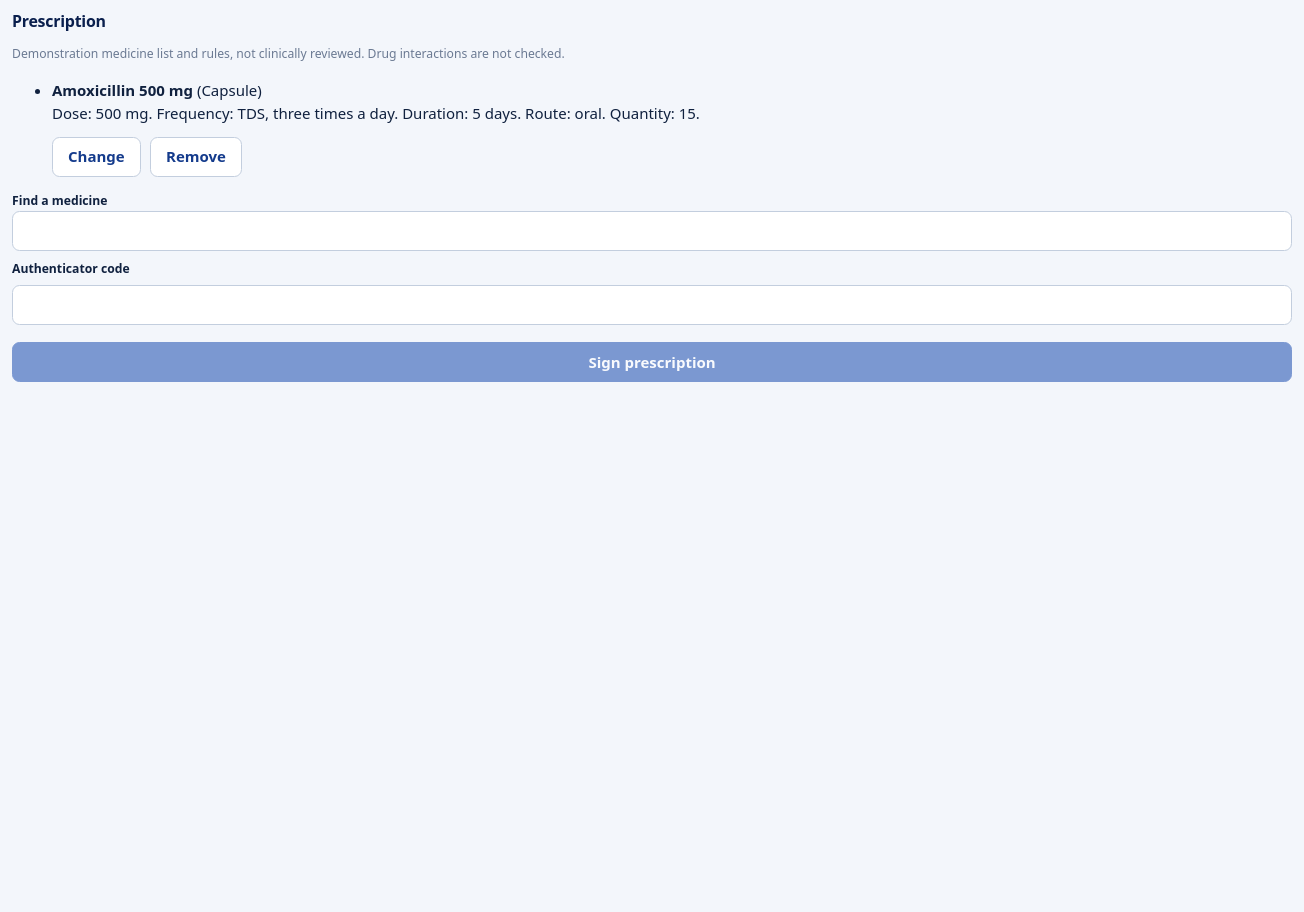
Test: PrescriptionPanel › sends the revision it read when changing a line
Click the button with aria-label "Change Amoxicillin": (96, 157) x1=52 y1=137 x2=141 y2=177
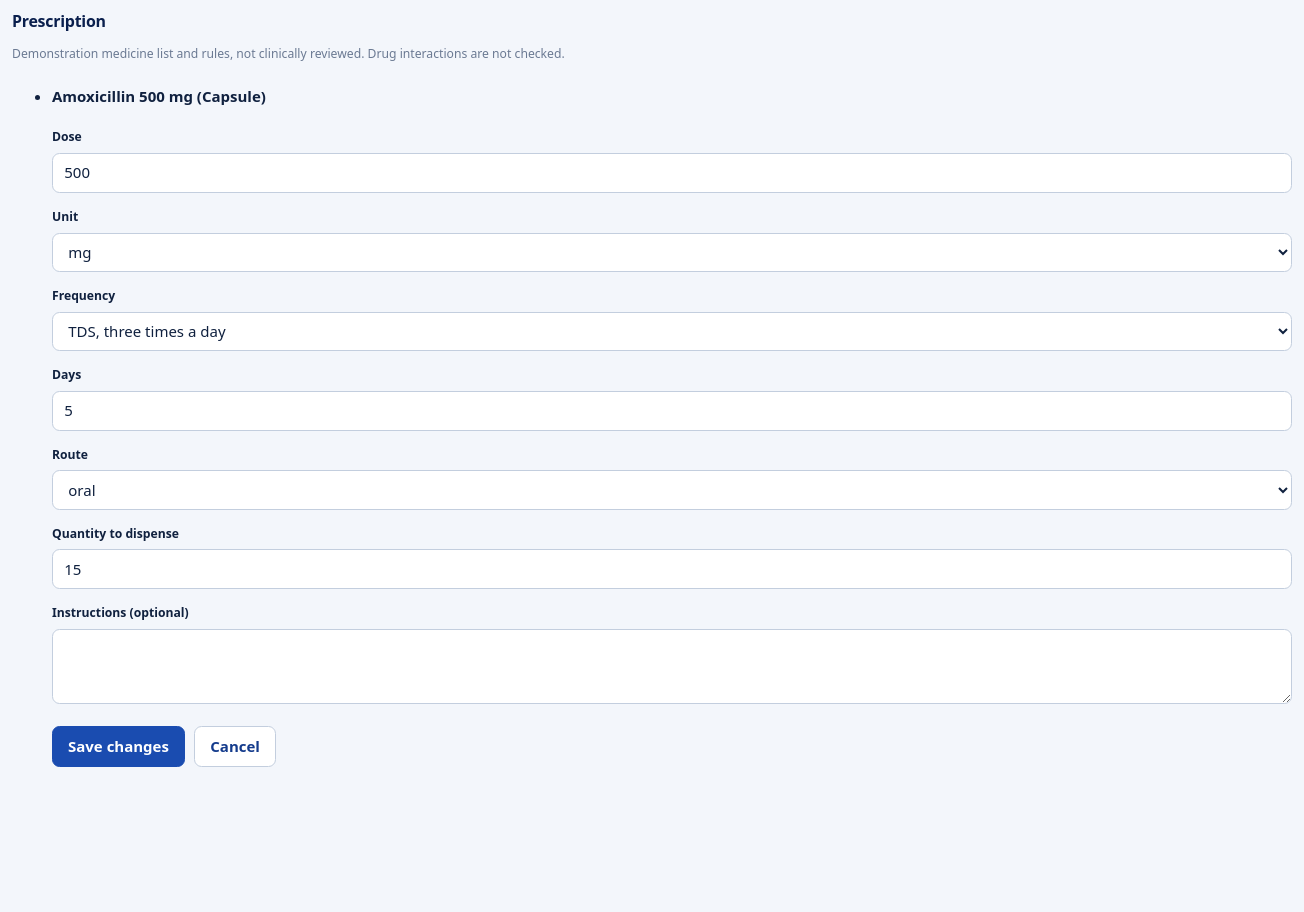
Replace the text in the field labelled "Quantity to dispense" with "21": (672, 569) x1=52 y1=549 x2=1292 y2=590
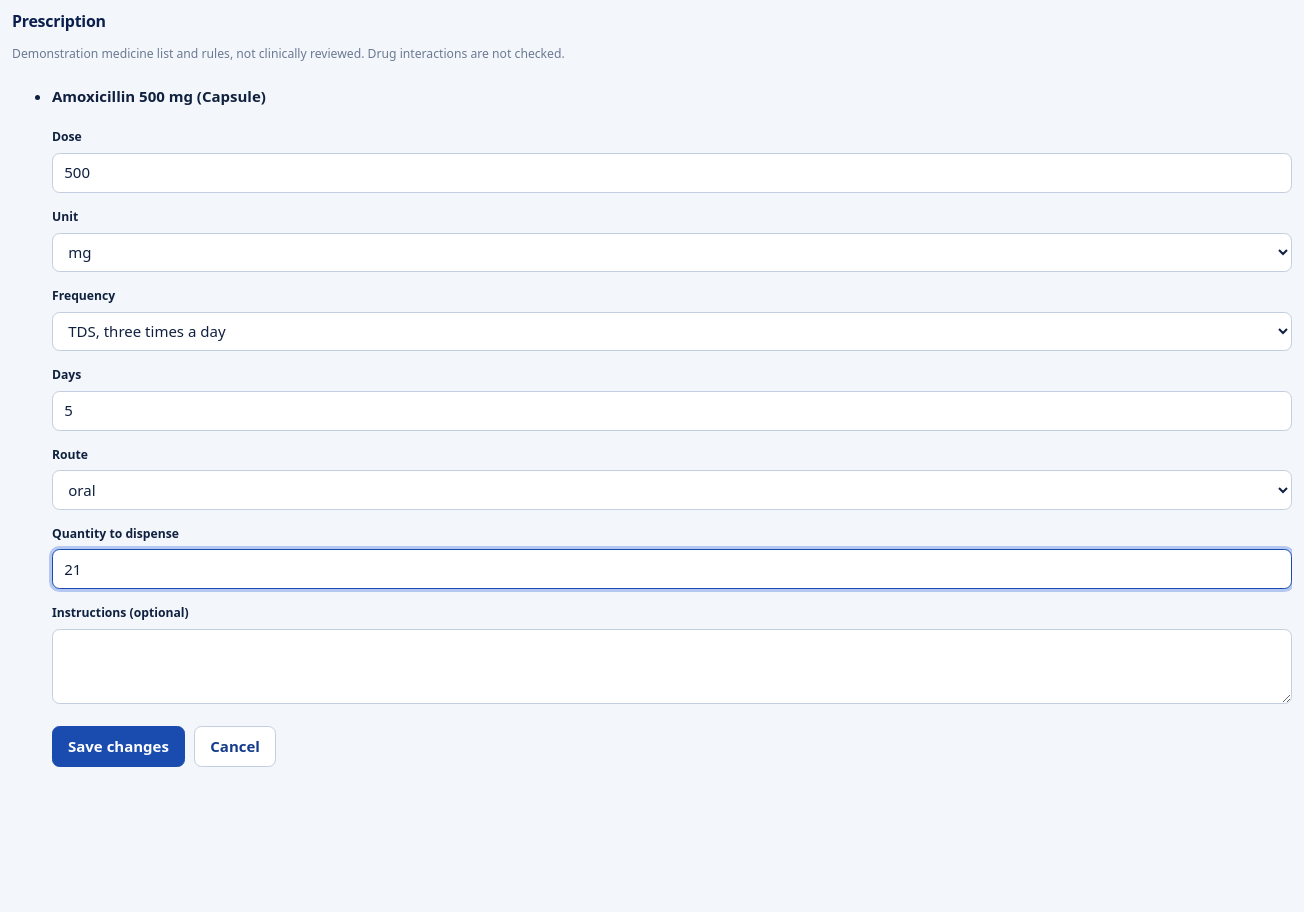
Click the button "Save changes": (118, 747) x1=52 y1=726 x2=185 y2=767
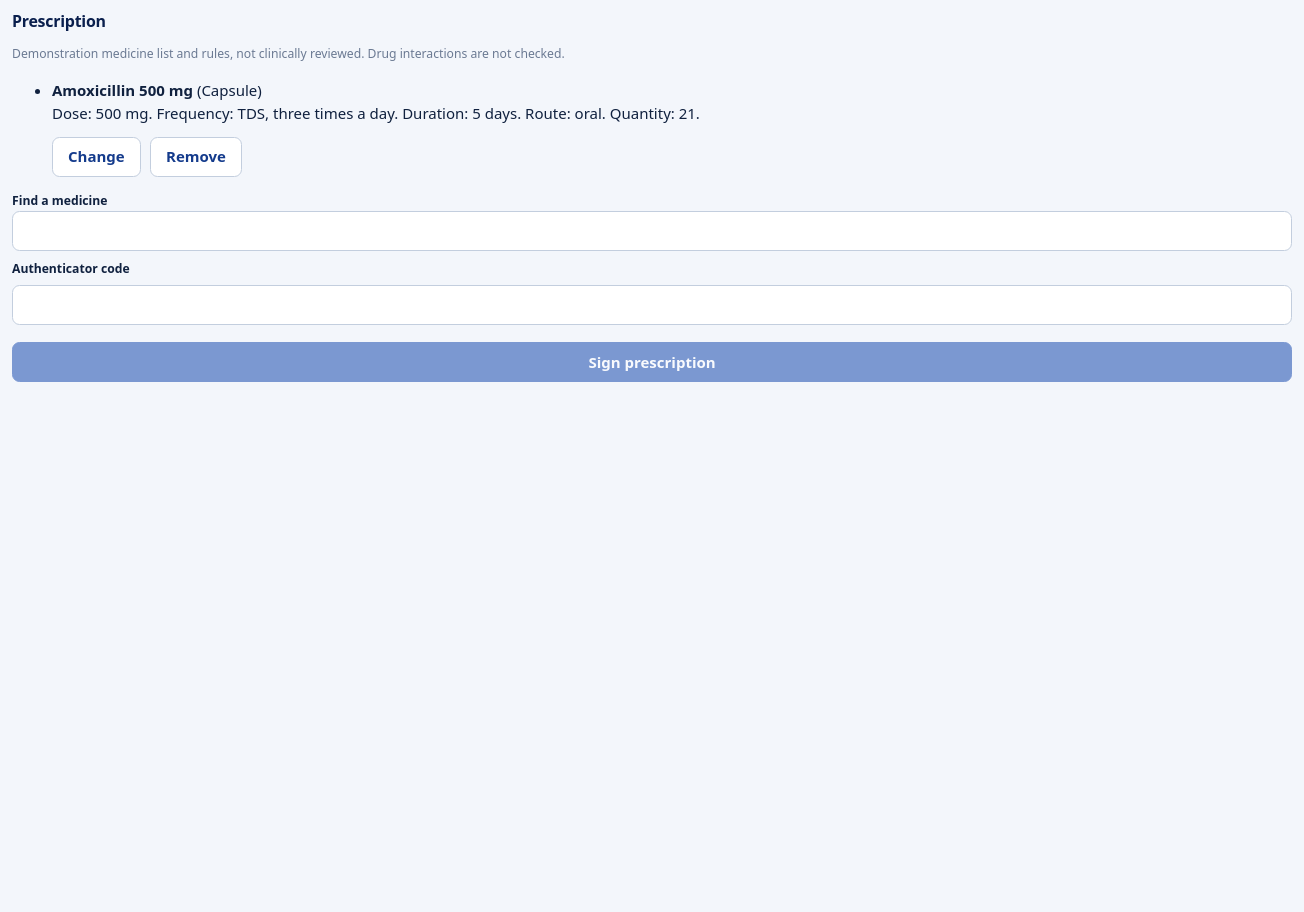
Expected: the list item "Quantity: 21" is shown, x1=52 y1=103 x2=700 y2=123
